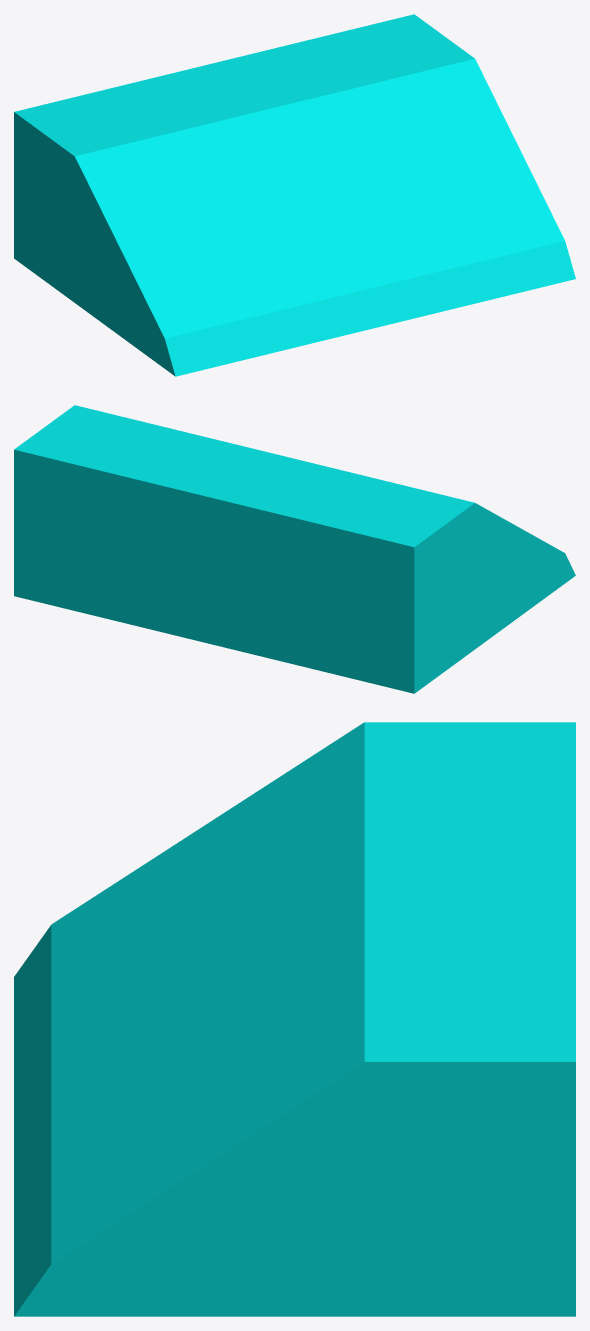
Rendered from SM_Bld_Steps_01_Collision.fbx.
The picture shows the model from 3 angles, top to bottom: view 1: azimuth 30°, elevation 25°; view 2: azimuth 150°, elevation 25°; view 3: azimuth 270°, elevation 25°; orthographic projection. The views are drawn at different scales.
Parts seen in each view (by area): view 1: SM_Bld_Steps_01_Collision; view 2: SM_Bld_Steps_01_Collision; view 3: SM_Bld_Steps_01_Collision.
Part boxes in pixels (x1,y1,x2,y2): SM_Bld_Steps_01_Collision: [14, 14, 575, 376]; SM_Bld_Steps_01_Collision: [14, 405, 575, 693]; SM_Bld_Steps_01_Collision: [14, 722, 575, 1316].
Size of the model in its own units: 136 by 47.52 by 94.97.
